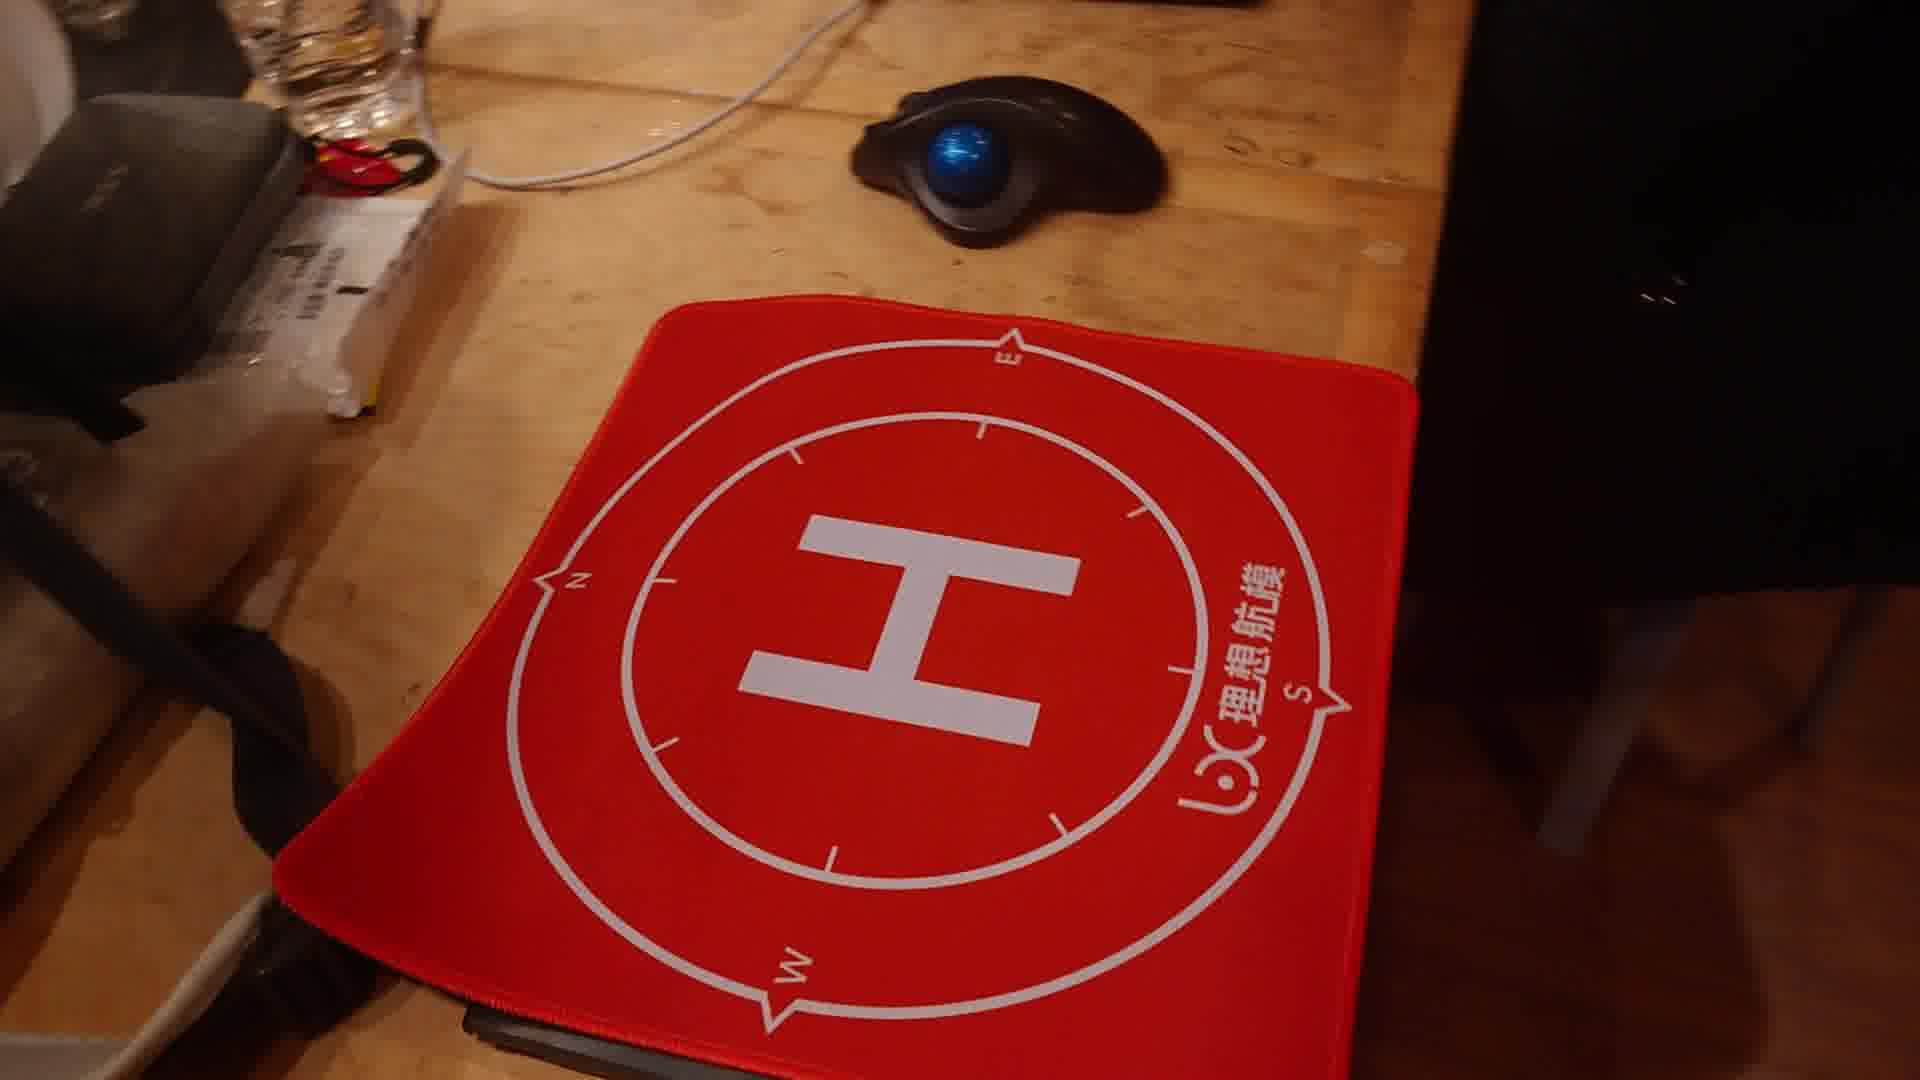H: (736, 509, 1083, 748)
